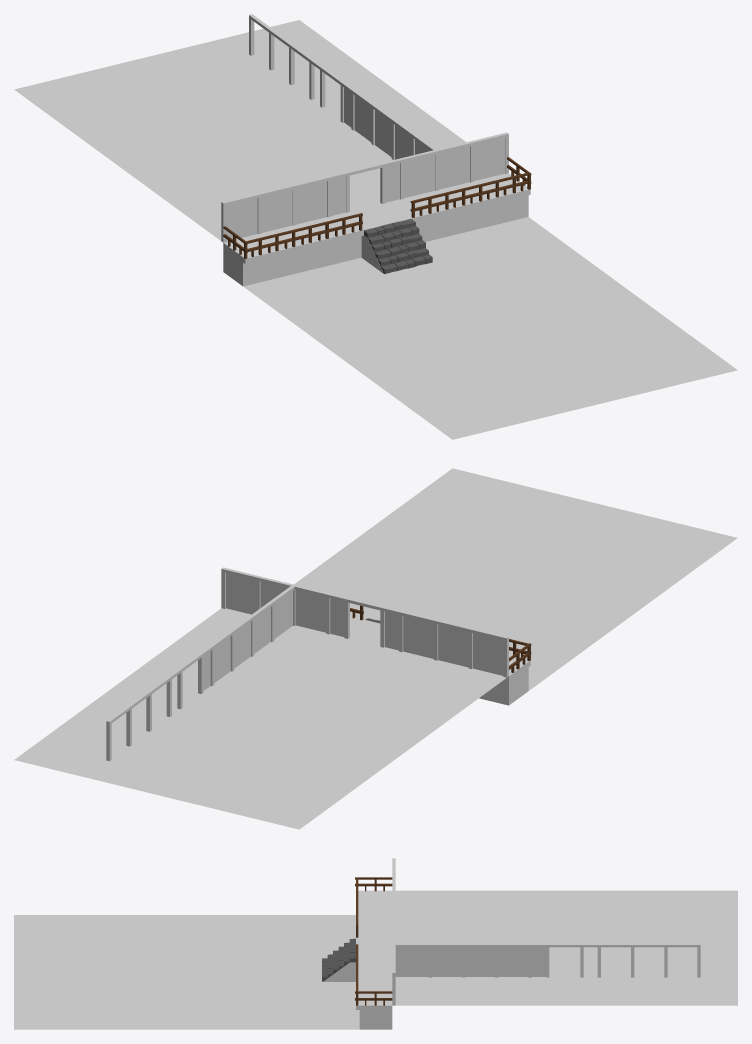
File: test_hotline.fbx
The picture shows the model from 3 angles, top to bottom: view 1: azimuth 30°, elevation 25°; view 2: azimuth 150°, elevation 25°; view 3: azimuth 270°, elevation 25°; orthographic projection. The views are drawn at different scales.
Visible parts, largest first — view 1: Plane, Plane.001, Cube.002, Cube.003, Cube.006, Cube.007, Cube, Cube.004, Cube.001, Plane.004, Plane.003, Plane.002 (+3 smaller); view 2: Plane.001, Plane, Cube.006, Cube.007, Plane.003, Plane.004, Plane.005, Plane.002, Plane.007, Cube.002, Cube.003, Plane.014 (+3 smaller); view 3: Plane, Plane.001, Cube.002, Cube.007, Plane.014, Plane.012, Plane.010, Plane.011, Cube, Cube.003, Cube.006, Cube.004 (+3 smaller).
Boxes of the visible parts, box(x1,y1,x2,y2) form: Plane: box(243, 217, 737, 439); Plane.001: box(14, 20, 504, 241); Cube.002: box(223, 173, 530, 264); Cube.003: box(223, 195, 528, 286); Cube.006: box(221, 132, 508, 242); Cube.007: box(249, 14, 436, 159); Cube: box(364, 219, 432, 273); Cube.004: box(223, 213, 362, 258); Cube.001: box(410, 157, 531, 217); Plane.004: box(261, 189, 292, 232); Plane.003: box(296, 181, 327, 224); Plane.002: box(404, 155, 435, 197); Plane.001: box(14, 608, 506, 829); Plane: box(294, 468, 737, 690); Cube.006: box(221, 567, 508, 677); Cube.007: box(106, 586, 294, 761); Plane.003: box(403, 616, 433, 658); Plane.004: box(438, 624, 468, 667); Plane.005: box(473, 633, 503, 675); Plane.002: box(295, 590, 325, 632); Plane.007: box(226, 573, 256, 614); Cube.002: box(350, 616, 530, 681); Cube.003: box(479, 667, 528, 705); Plane.014: box(274, 591, 292, 638); Plane: box(14, 915, 359, 1029); Plane.001: box(395, 890, 737, 1005); Cube.002: box(356, 890, 392, 1009); Cube.007: box(395, 943, 700, 977); Plane.014: box(395, 947, 428, 976); Plane.012: box(498, 947, 528, 976); Plane.010: box(432, 947, 461, 976); Plane.011: box(465, 947, 494, 976); Cube: box(322, 938, 355, 981); Cube.003: box(359, 1010, 392, 1029); Cube.006: box(392, 858, 395, 1005); Cube.004: box(355, 877, 392, 937).
Bounding box in the file's own units: 1639 × 401 × 4362.
